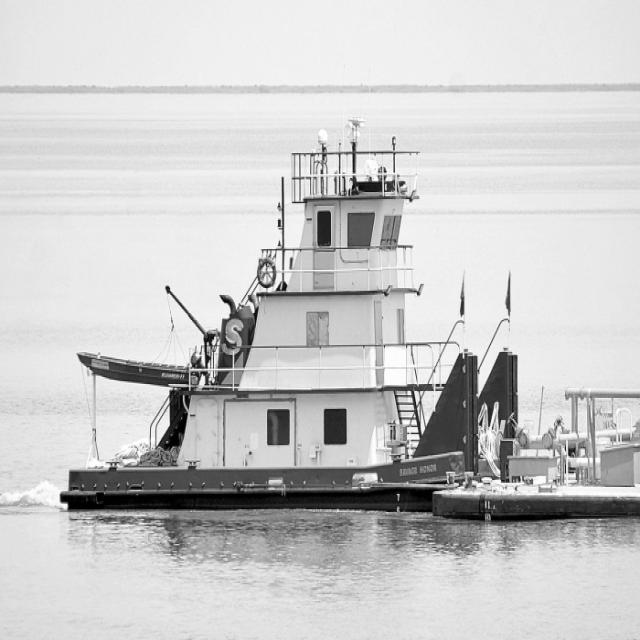tugboat: (55, 114, 529, 537)
